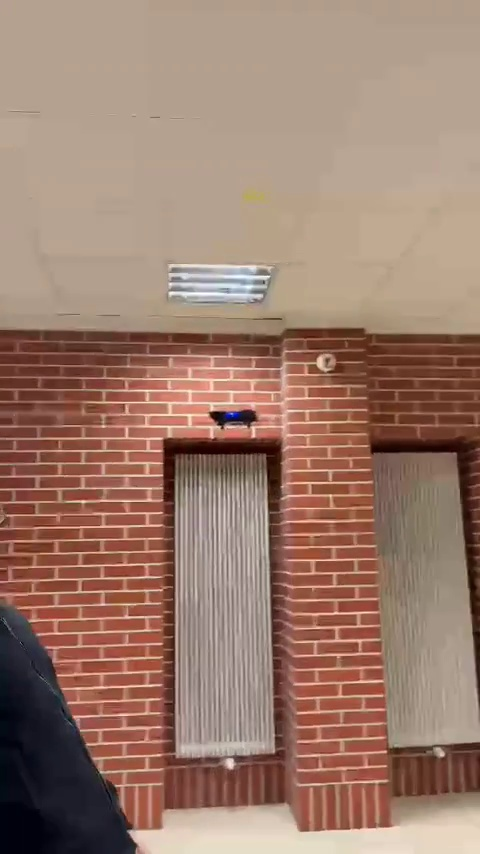drone: (200, 408, 258, 429)
